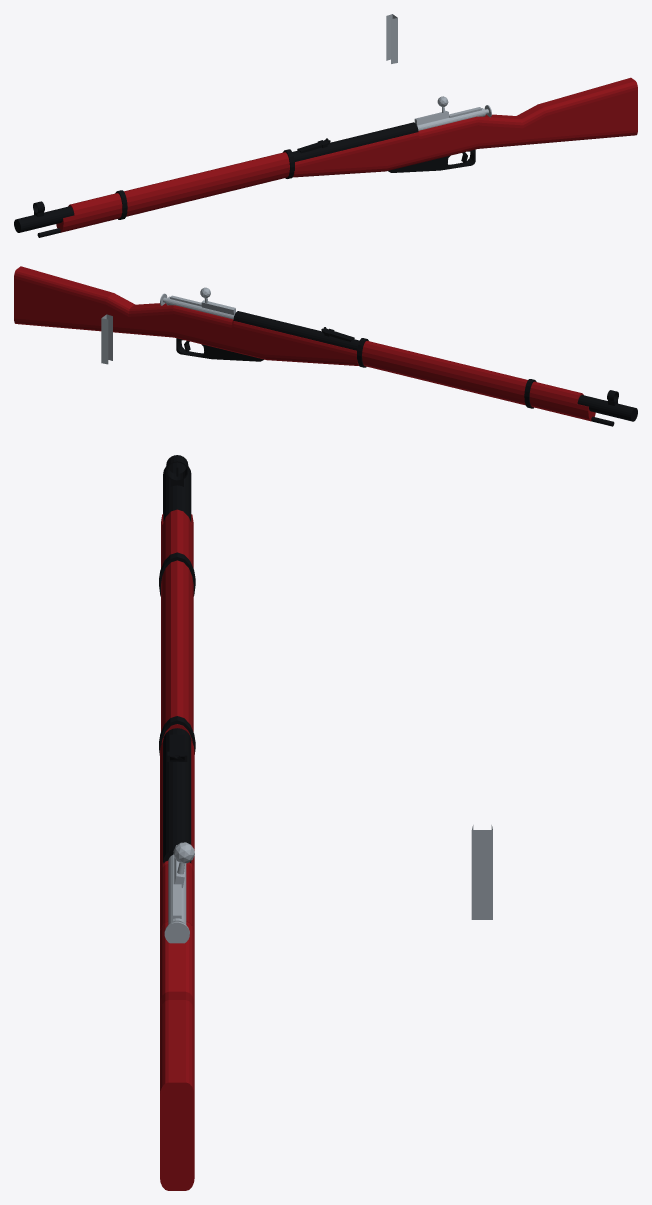
Rendered from mosin-nagant0051.obj.
3 views of the same model, one above another, from view 1: azimuth 30°, elevation 25°; view 2: azimuth 150°, elevation 25°; view 3: azimuth 270°, elevation 25° (orthographic). The views are drawn at different scales.
Visible parts, largest first — view 1: stock, barrel, triggerGuard, clip, bolt; view 2: stock, barrel, triggerGuard, clip, bolt, boltLocker; view 3: stock, barrel, clip.
Part boxes in pixels (x1=…): stock: x1=56, y1=77, x2=637, y2=232; barrel: x1=14, y1=122, x2=418, y2=232; triggerGuard: x1=388, y1=149, x2=475, y2=172; clip: x1=386, y1=14, x2=397, y2=63; bolt: x1=417, y1=108, x2=485, y2=130; stock: x1=14, y1=266, x2=595, y2=421; barrel: x1=233, y1=311, x2=637, y2=421; triggerGuard: x1=176, y1=338, x2=263, y2=361; clip: x1=101, y1=314, x2=112, y2=364; bolt: x1=166, y1=296, x2=234, y2=319; boltLocker: x1=201, y1=300, x2=235, y2=314; stock: x1=160, y1=509, x2=194, y2=1190; barrel: x1=163, y1=462, x2=191, y2=863; clip: x1=471, y1=825, x2=492, y2=919.
Size of the model in its own units: 16.32 by 2.57 by 3.83.
